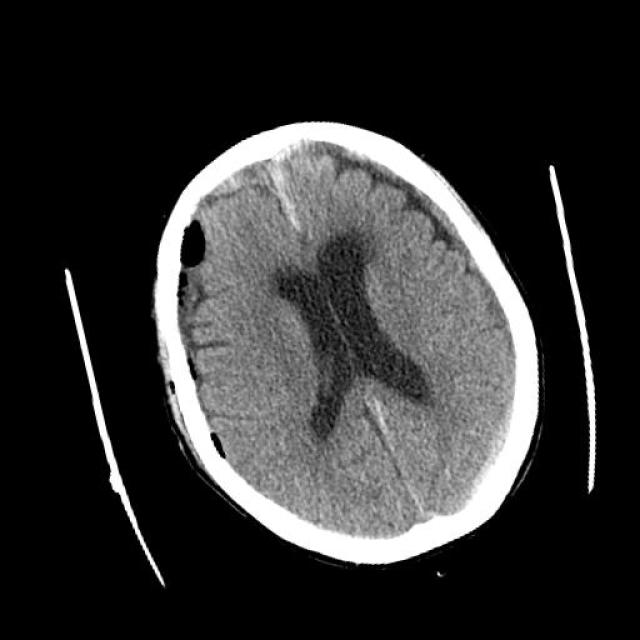Subdural: (186, 107, 352, 244)
